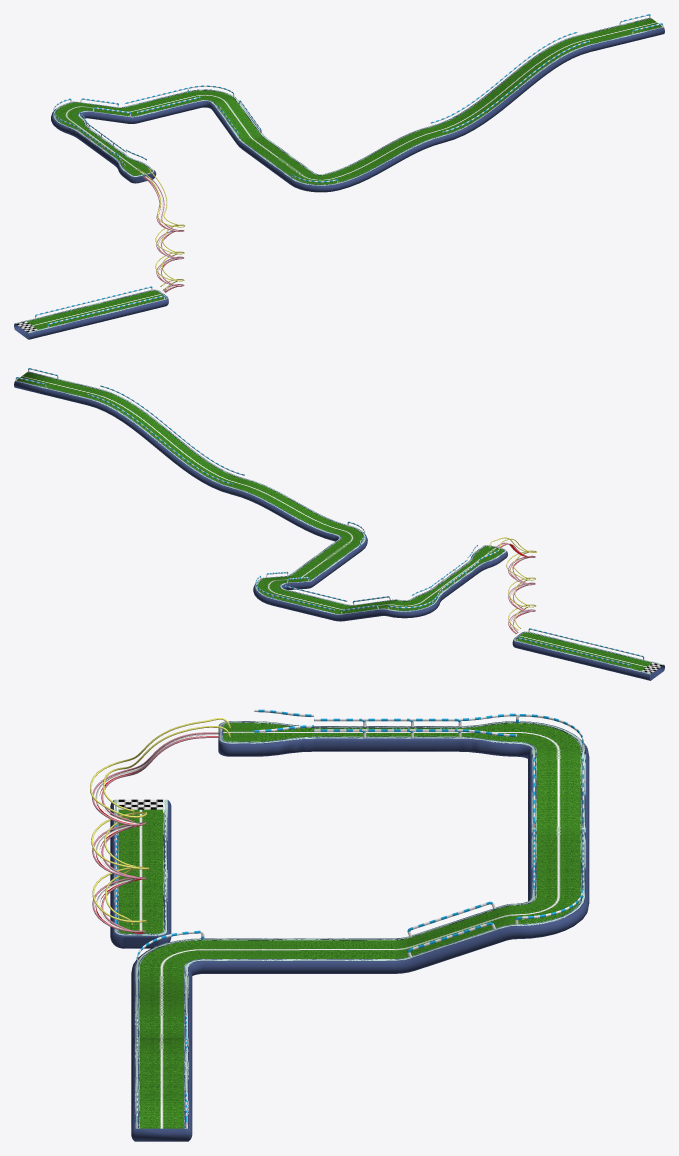
The model's file is map10.fbx.
3 renders of one model, top to bottom at view 1: azimuth 30°, elevation 25°; view 2: azimuth 150°, elevation 25°; view 3: azimuth 270°, elevation 25°, orthographic. The views are drawn at different scales.
Visible parts, largest first — view 1: Terrain_CurveDown_Bar_2, Terrain_CurveDown_Bar_1, Terrain_Flat_BarEnd_2__1_, Terrain_Flat_Bar_1__1_, Terrain_Flat_BarStart_1, Terrain_CurveUp_Bar_2__1_, Terrain_CurveUp_Bar_2, Terrain_Flat_3, Terrain_Right_Flat_Bar_2, Dummy_Start_1, Terrain_CurveUp_Bar_2__2_, Terrain_Flat_4 (+1 smaller); view 2: Terrain_CurveDown_Bar_2, Terrain_CurveDown_Bar_1, Terrain_Flat_BarEnd_2__1_, Terrain_Flat_Bar_1__1_, Terrain_Flat_BarStart_1, Terrain_CurveUp_Bar_2, Terrain_Flat_3, Terrain_Left_Flat_Bar_2, Dummy_Start_1, Terrain_CurveUp_Bar_2__2_, Terrain_Flat_4, Terrain_Left_Flat_Bar_2__1_ (+1 smaller); view 3: Terrain_CurveUp_Bar_2__2_, Terrain_Flat_Bar_1__1_, Terrain_CurveDown_Bar_1, Terrain_Flat_3, Terrain_Flat_BarStart_1, Terrain_Flat_BarEnd_2__1_, Terrain_CurveUp_Bar_2__1_, Dummy_Start_1, Terrain_Flat_4, Terrain_CurveUp_Bar_2, Terrain_Left_Flat_Bar_2__1_, Terrain_CurveDown_Bar_2 (+19 smaller).
Boxes of the visible parts, <box> form: Terrain_CurveDown_Bar_2: <box>429,35,591,142</box>; Terrain_CurveDown_Bar_1: <box>325,126,444,190</box>; Terrain_Flat_BarEnd_2__1_: <box>25,305,102,336</box>; Terrain_Flat_Bar_1__1_: <box>124,91,201,123</box>; Terrain_Flat_BarStart_1: <box>88,290,165,321</box>; Terrain_CurveUp_Bar_2__1_: <box>213,101,261,142</box>; Terrain_CurveUp_Bar_2: <box>576,25,633,51</box>; Terrain_Flat_3: <box>240,137,289,166</box>; Terrain_Right_Flat_Bar_2: <box>289,172,339,192</box>; Dummy_Start_1: <box>618,18,664,41</box>; Terrain_CurveUp_Bar_2__2_: <box>77,102,130,123</box>; Terrain_Flat_4: <box>265,155,309,179</box>; Terrain_CurveDown_Bar_2: <box>86,389,245,494</box>; Terrain_CurveDown_Bar_1: <box>231,478,347,541</box>; Terrain_Flat_BarEnd_2__1_: <box>577,647,653,678</box>; Terrain_Flat_Bar_1__1_: <box>271,589,347,620</box>; Terrain_Flat_BarStart_1: <box>515,632,591,662</box>; Terrain_CurveUp_Bar_2: <box>45,379,100,405</box>; Terrain_Flat_3: <box>289,557,338,585</box>; Terrain_Left_Flat_Bar_2: <box>386,599,435,618</box>; Dummy_Start_1: <box>14,371,58,395</box>; Terrain_CurveUp_Bar_2__2_: <box>341,599,392,621</box>; Terrain_Flat_4: <box>312,544,356,568</box>; Terrain_Left_Flat_Bar_2__1_: <box>253,579,285,605</box>; Terrain_CurveUp_Bar_2__2_: <box>528,759,589,837</box>; Terrain_Flat_Bar_1__1_: <box>528,836,589,910</box>; Terrain_CurveDown_Bar_1: <box>131,967,192,1037</box>; Terrain_Flat_3: <box>299,938,394,973</box>; Terrain_Flat_BarStart_1: <box>110,870,171,936</box>; Terrain_Flat_BarEnd_2__1_: <box>110,809,171,883</box>; Terrain_CurveUp_Bar_2__1_: <box>411,906,504,970</box>; Dummy_Start_1: <box>131,1098,192,1141</box>; Terrain_Flat_4: <box>227,938,298,973</box>; Terrain_CurveUp_Bar_2: <box>131,1058,192,1111</box>; Terrain_Left_Flat_Bar_2__1_: <box>517,897,588,938</box>; Terrain_CurveDown_Bar_2: <box>131,1025,192,1070</box>.
Size of the model in its own units: 12200 by 2848 by 4184.
11 materials, 6 textured.
